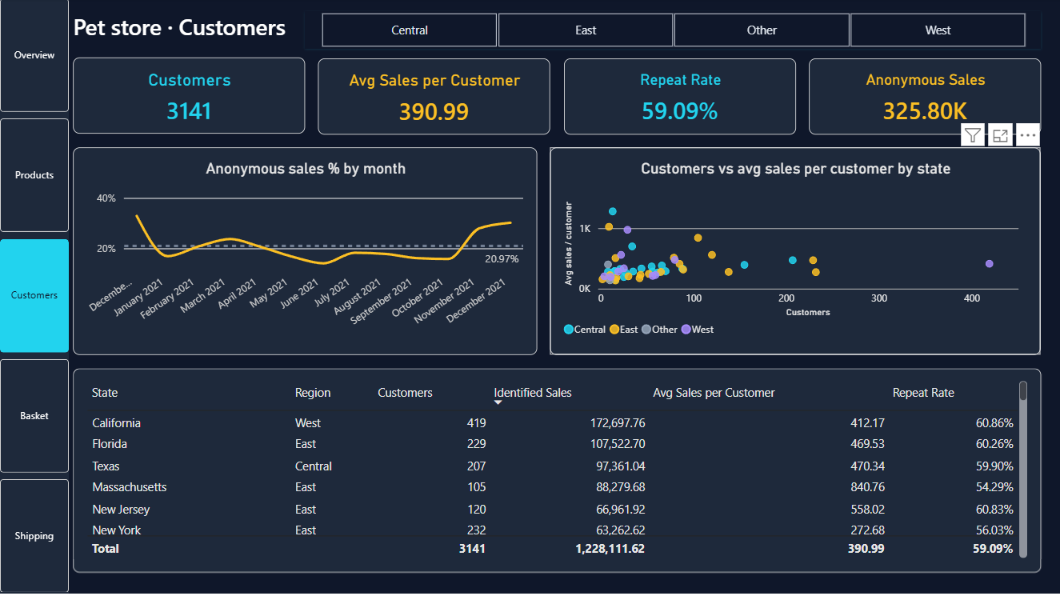

This screenshot's page, from the dashboard's own definition file:
{"tool":"powerbi","page":{"name":"Customers","canvas":[1280,720],"ordinal":2},"visuals":[{"type":"shape","box":[0,0,83,720],"z":0},{"type":"textbox","box":[63.6,16.2,304.5,53.7],"z":1000},{"type":"card","title":"Customers","fields":{"Values":["Sales.Customers"]},"box":[88,71,280,92],"z":2000},{"type":"card","title":"Avg Sales per Customer","fields":{"Values":["Sales.Avg Sales per Customer"]},"box":[384,72,280,92],"z":3000},{"type":"card","title":"Repeat Rate","fields":{"Values":["Sales.Repeat Rate"]},"box":[680,72,280,92],"z":4000},{"type":"card","title":"Anonymous Sales","fields":{"Values":["Sales.Anonymous Sales"]},"box":[976,72,280,92],"z":5000},{"type":"slicer","fields":{"Values":["States.Region"]},"box":[368,15.7,887.9,44.6],"z":6000},{"type":"lineChart","title":"Anonymous sales % by month","fields":{"Category":["Sales.Month"],"Y":["Sales.Anonymous Sales %"]},"box":[88,180,560,250],"z":6001},{"type":"scatterChart","title":"Customers vs avg sales per customer by state","fields":{"Category":["States.State"],"Series":["States.Region"],"X":["Sales.Customers"],"Y":["Sales.Avg Sales per Customer"]},"box":[664,180,592,250],"z":6002},{"type":"tableEx","fields":{"Values":["States.State","States.Region","Sales.Customers","Sales.Identified Sales","Sales.Avg Sales per Customer","Sales.Repeat Rate"]},"box":[88,446,1168,246],"z":6003},{"type":"pageNavigator","box":[0,0,83.2,720.2],"z":6004}]}

Visuals, with their boxes in screenshot pixels (x1, y1, x2, y2), scaled from the page's 1280x720 canvas onto the 1060x594 screenshot:
shape: left=0, top=0, right=69, bottom=593
textbox: left=53, top=13, right=305, bottom=58
"Customers" card: left=73, top=59, right=305, bottom=134
"Avg Sales per Customer" card: left=318, top=59, right=550, bottom=135
"Repeat Rate" card: left=563, top=59, right=795, bottom=135
"Anonymous Sales" card: left=808, top=59, right=1040, bottom=135
slicer - States.Region: left=305, top=13, right=1040, bottom=50
"Anonymous sales % by month" lineChart: left=73, top=148, right=537, bottom=355
"Customers vs avg sales per customer by state" scatterChart: left=550, top=148, right=1040, bottom=355
tableEx - States.State x States.Region: left=73, top=368, right=1040, bottom=571
pageNavigator: left=0, top=0, right=69, bottom=593
